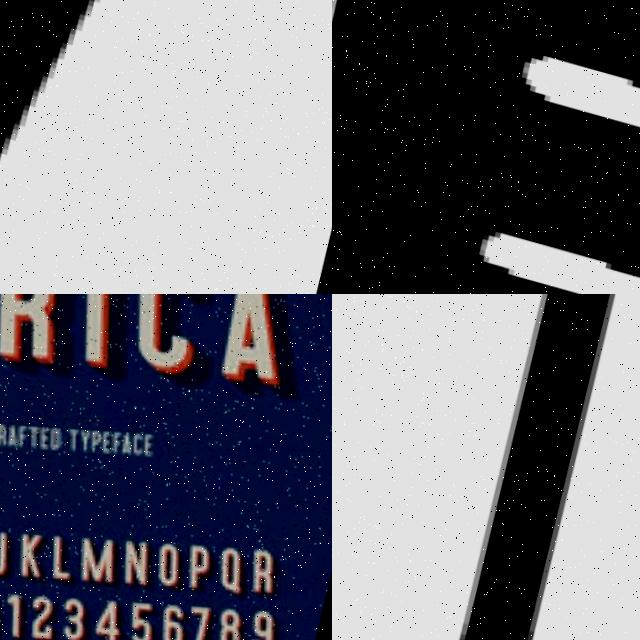1: (343, 294, 640, 640), (0, 586, 28, 638)
2: (17, 586, 59, 640)
3: (50, 589, 92, 640)
4: (80, 591, 127, 640)
5: (115, 593, 159, 640)
6: (149, 595, 189, 640)
7: (175, 597, 219, 640)
8: (205, 599, 247, 640)
9: (237, 602, 280, 640)
T: (0, 0, 332, 294)
